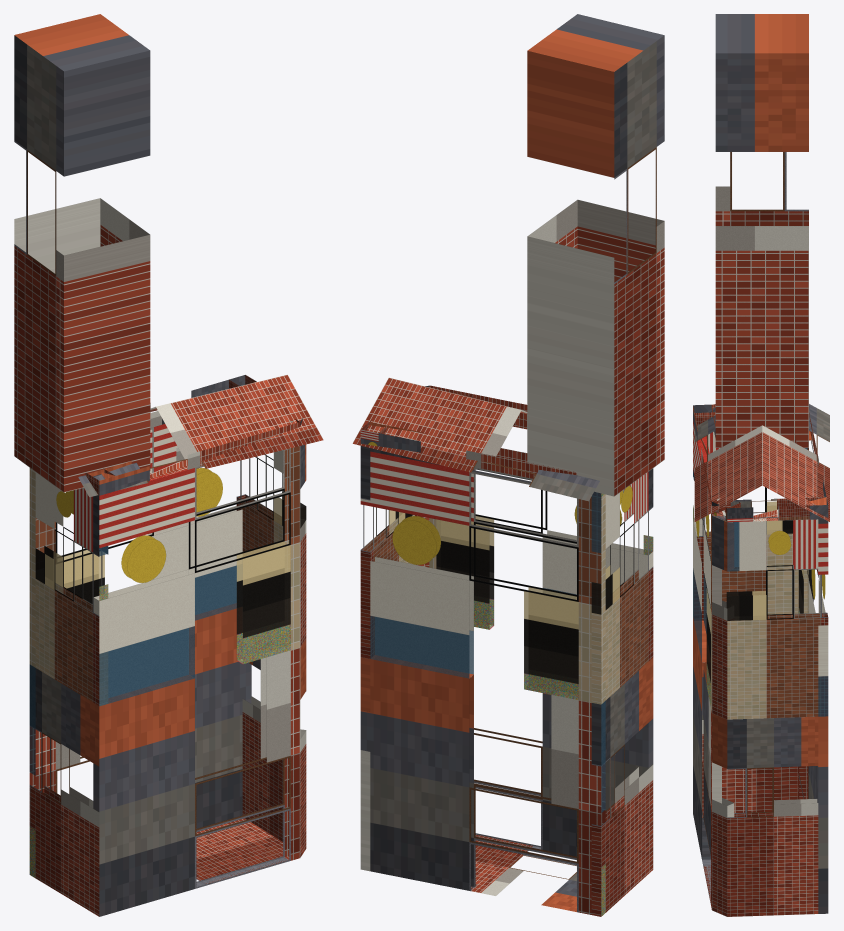
The picture shows the model from 3 angles, left to right: view 1: azimuth 30°, elevation 25°; view 2: azimuth 150°, elevation 25°; view 3: azimuth 270°, elevation 25°; orthographic projection. The views are drawn at different scales.
Parts seen in each view (by area): view 1: 1132023205__wall_1_xb, 1132023205__chimney_0_xb, 1132023205__wall_4_xb, 1132023205__wall_0_xb, 1132023205__wall_1_xf, 1132023205_roof_-1_xb, 1132023205__wall_3_xb, 1132023205__wall_4_xf, 1132023205__base, 1132023205__cornice_1, 1132023205__wall_2_xb, 1132023205__wall_0_xf (+1 smaller); view 2: 1132023205__wall_4_xb, 1132023205__chimney_0_xb, 1132023205__wall_0_xb, 1132023205__wall_1_xb, 1132023205__wall_4_xf, 1132023205_roof_1_xb, 1132023205__wall_3_xb, 1132023205__wall_1_xf, 1132023205__base, 1132023205__cornice_4, 1132023205__wall_0_xf, 1132023205__cornice_1; view 3: 1132023205__chimney_0_xb, 1132023205__wall_3_xb, 1132023205__wall_0_xb, 1132023205__wall_1_xb, 1132023205__wall_2_xb, 1132023205__wall_4_xb, 1132023205_roof_-1_xb, 1132023205_roof_1_xb, 1132023205__wall_3_xf, 1132023205__cornice_3, 1132023205__wall_1_xf, 1132023205__wall_4_xf (+3 smaller).
Part boxes in pixels (bbox=[...]): 1132023205__wall_1_xb: bbox=[93, 446, 300, 916]; 1132023205__chimney_0_xb: bbox=[14, 14, 150, 492]; 1132023205__wall_4_xb: bbox=[29, 419, 251, 878]; 1132023205__wall_0_xb: bbox=[29, 472, 108, 916]; 1132023205__wall_1_xf: bbox=[99, 539, 290, 705]; 1132023205_roof_-1_xb: bbox=[78, 374, 323, 497]; 1132023205__wall_3_xb: bbox=[236, 450, 306, 841]; 1132023205__wall_4_xf: bbox=[30, 550, 236, 877]; 1132023205__base: bbox=[196, 818, 288, 884]; 1132023205__cornice_1: bbox=[88, 419, 300, 495]; 1132023205__wall_2_xb: bbox=[300, 444, 306, 857]; 1132023205__wall_0_xf: bbox=[36, 546, 107, 600]; 1132023205__wall_4_xb: bbox=[360, 448, 605, 916]; 1132023205__chimney_0_xb: bbox=[527, 14, 664, 496]; 1132023205__wall_0_xb: bbox=[591, 468, 653, 916]; 1132023205__wall_1_xb: bbox=[429, 469, 653, 856]; 1132023205__wall_4_xf: bbox=[370, 494, 605, 915]; 1132023205_roof_1_xb: bbox=[352, 377, 599, 501]; 1132023205__wall_3_xb: bbox=[360, 446, 414, 871]; 1132023205__wall_1_xf: bbox=[436, 516, 576, 629]; 1132023205__base: bbox=[471, 835, 576, 911]; 1132023205__cornice_4: bbox=[360, 422, 576, 478]; 1132023205__wall_0_xf: bbox=[592, 492, 652, 613]; 1132023205__cornice_1: bbox=[429, 385, 527, 429]; 1132023205__chimney_0_xb: bbox=[715, 14, 808, 447]; 1132023205__wall_3_xb: bbox=[726, 518, 828, 916]; 1132023205__wall_0_xb: bbox=[693, 431, 807, 817]; 1132023205__wall_1_xb: bbox=[693, 420, 721, 909]; 1132023205__wall_2_xb: bbox=[712, 516, 734, 916]; 1132023205__wall_4_xb: bbox=[798, 440, 828, 913]; 1132023205_roof_-1_xb: bbox=[694, 404, 762, 521]; 1132023205_roof_1_xb: bbox=[762, 404, 829, 521]; 1132023205__wall_3_xf: bbox=[727, 522, 766, 620]; 1132023205__cornice_3: bbox=[727, 497, 827, 522]; 1132023205__wall_1_xf: bbox=[693, 570, 710, 765]; 1132023205__wall_4_xf: bbox=[799, 570, 827, 716].
Bounding box in the file's own units: 0.4325 × 1.4 × 0.2201.
1 material, 1 textured.
